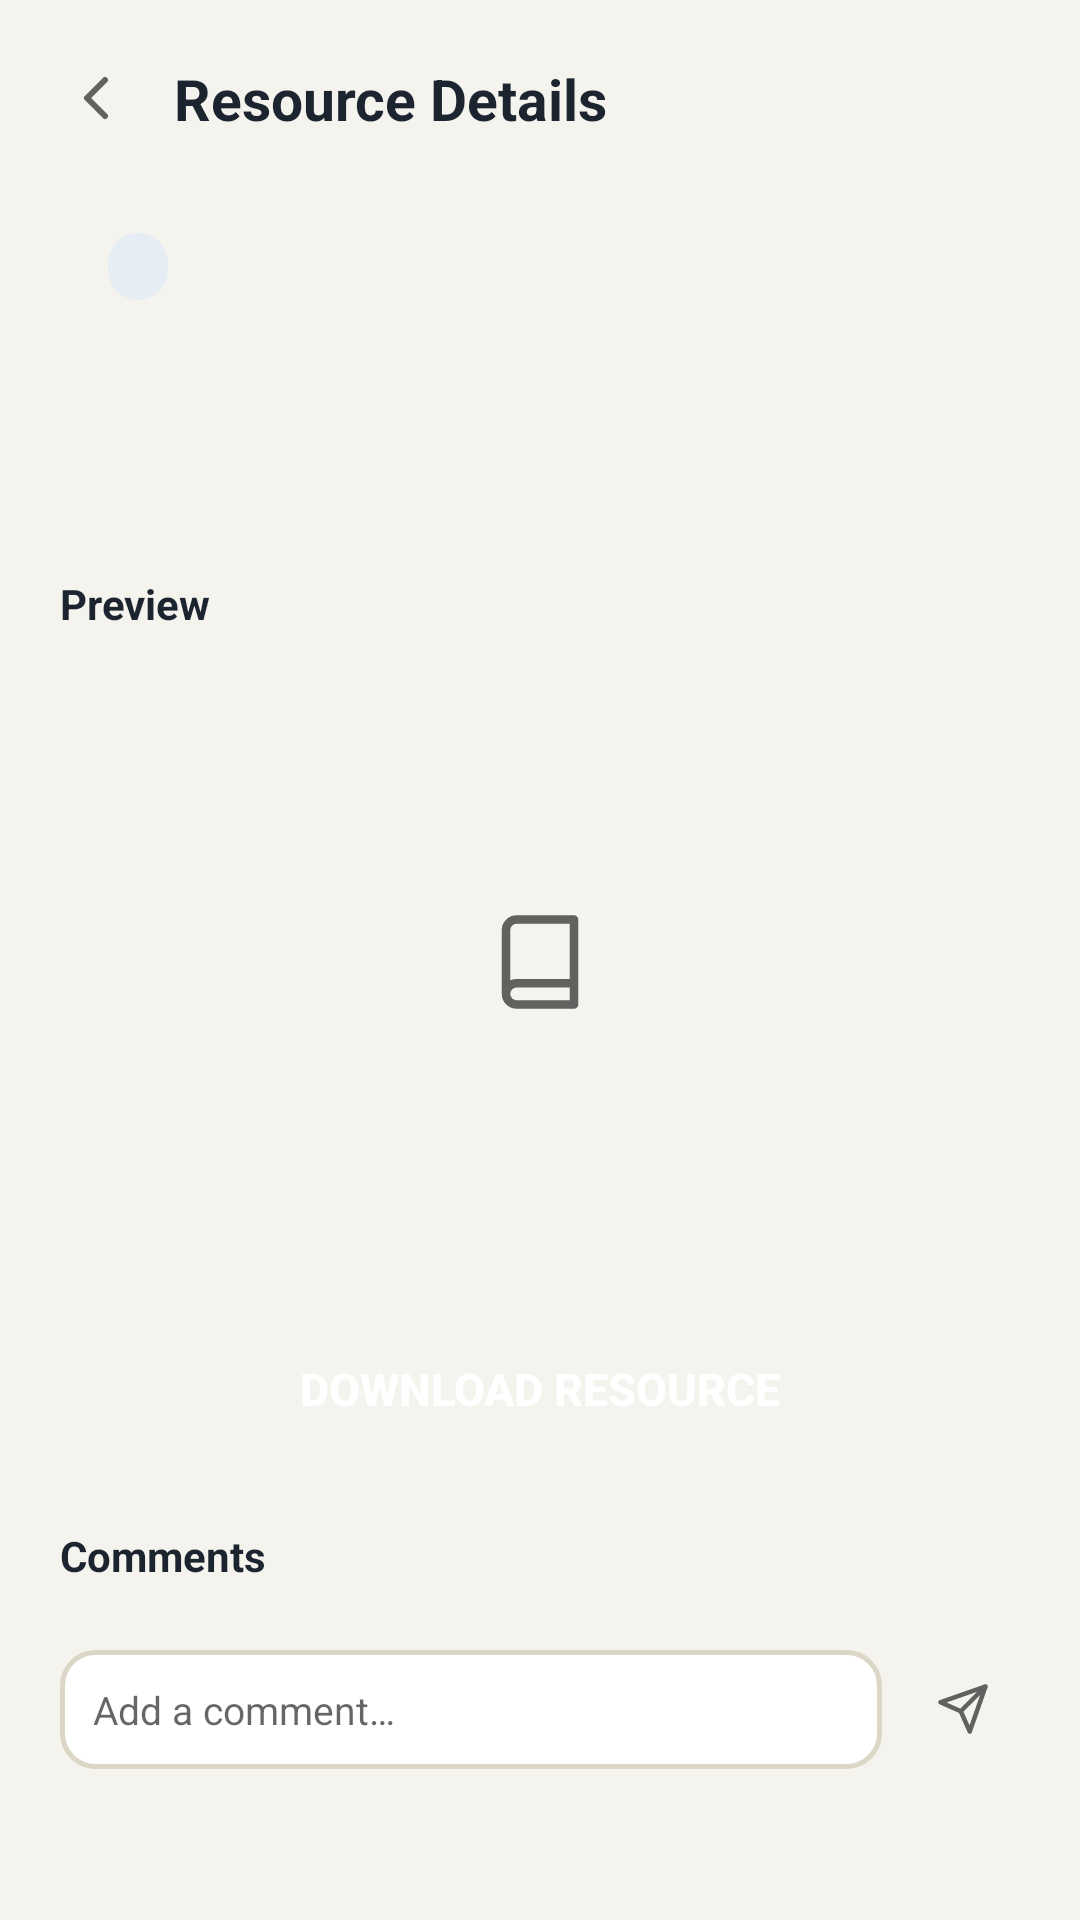

Icons on this 1080 × 1920 Android screen, each with its box as (x1, y1, x2, y2):
back: (84, 77, 108, 119)
book: (501, 915, 579, 1009)
send: (938, 1684, 988, 1734)
